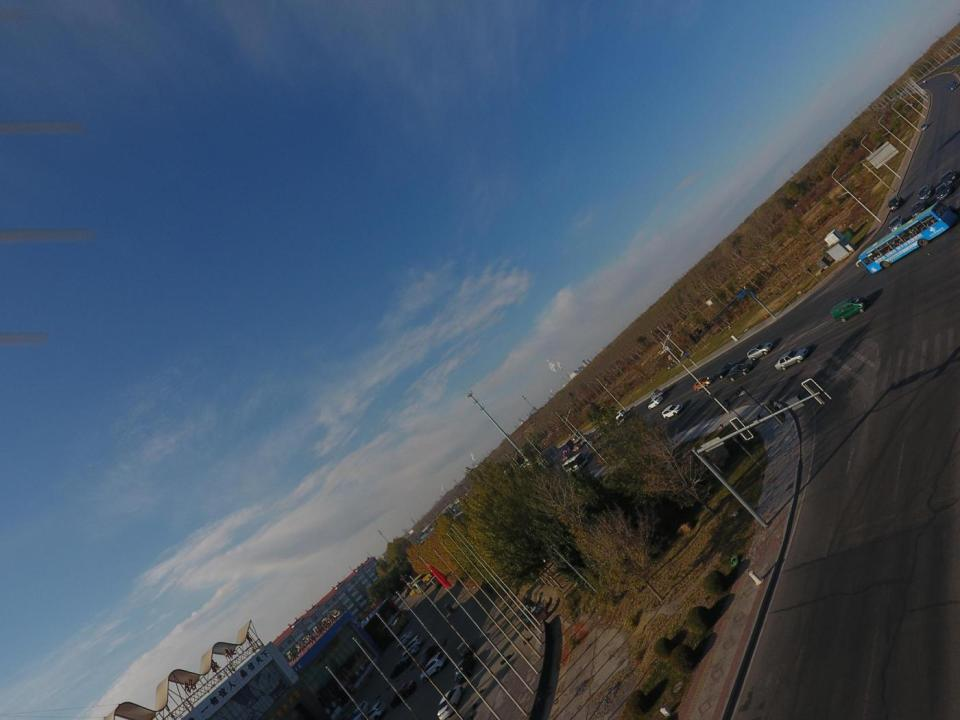bus: (858, 202, 958, 274), (384, 610, 407, 640), (409, 569, 432, 593), (562, 453, 588, 472), (554, 441, 574, 458), (411, 580, 427, 593)
car: (437, 685, 463, 720), (420, 652, 448, 682), (774, 348, 809, 370), (390, 680, 416, 708), (747, 342, 774, 362), (455, 656, 475, 683), (726, 362, 752, 381), (362, 701, 387, 720), (391, 656, 411, 679), (420, 644, 438, 668), (402, 635, 424, 653), (715, 362, 739, 378), (351, 701, 370, 720), (888, 215, 907, 233), (911, 199, 928, 219), (662, 404, 683, 420), (693, 376, 715, 391), (942, 168, 959, 187), (916, 184, 935, 200), (400, 644, 419, 660), (888, 194, 904, 212), (934, 184, 952, 200), (398, 631, 413, 649), (457, 641, 473, 656), (648, 396, 662, 409), (602, 440, 616, 449), (615, 409, 627, 419), (595, 429, 606, 439), (572, 442, 583, 452), (404, 587, 414, 598), (586, 438, 598, 447), (949, 81, 958, 90), (573, 430, 582, 438), (398, 609, 408, 616), (582, 436, 590, 444), (562, 452, 570, 460), (920, 123, 929, 130), (390, 596, 397, 601), (923, 80, 928, 84)
truck: (651, 388, 668, 400), (430, 575, 444, 588)
van: (830, 296, 870, 322)
